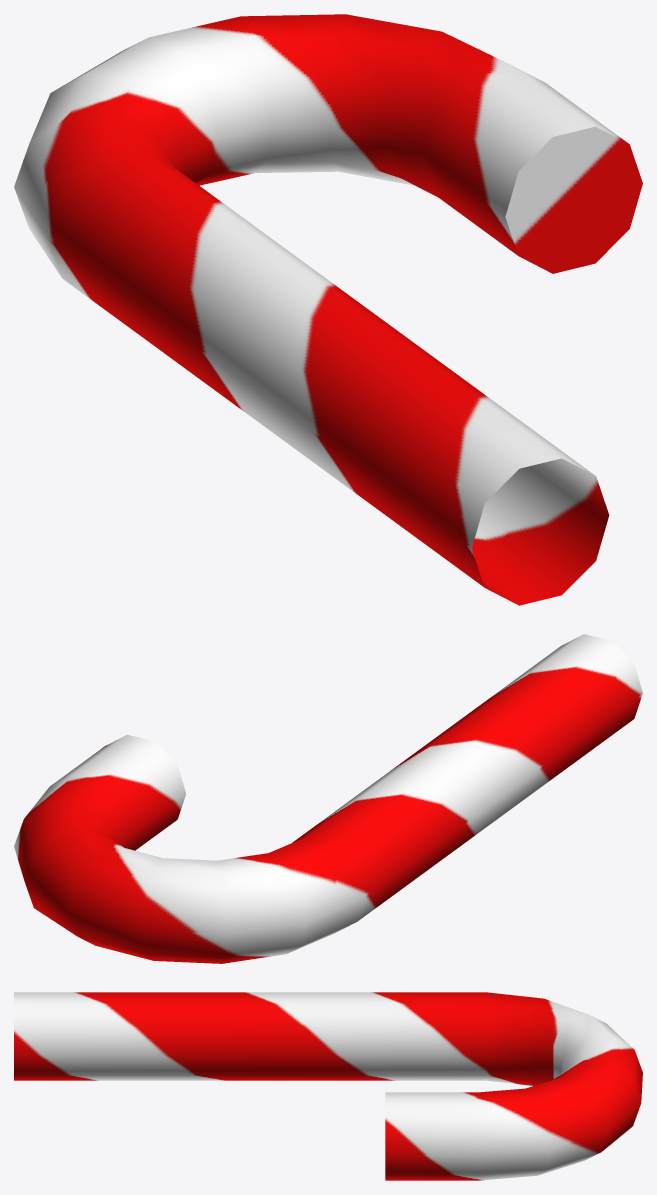
File: Candy.fbx
3 views of the same model, one above another, from view 1: azimuth 30°, elevation 25°; view 2: azimuth 150°, elevation 25°; view 3: azimuth 270°, elevation 25° (orthographic). The views are drawn at different scales.
Parts seen in each view (by area): view 1: Candy; view 2: Candy; view 3: Candy.
Boxes of the visible parts, x1,y1,x2,y2 form: Candy: (14, 14, 642, 605); Candy: (14, 634, 642, 963); Candy: (14, 992, 642, 1180).
Bounding box in the file's own units: 0.1916 × 0.736 × 1.42.
